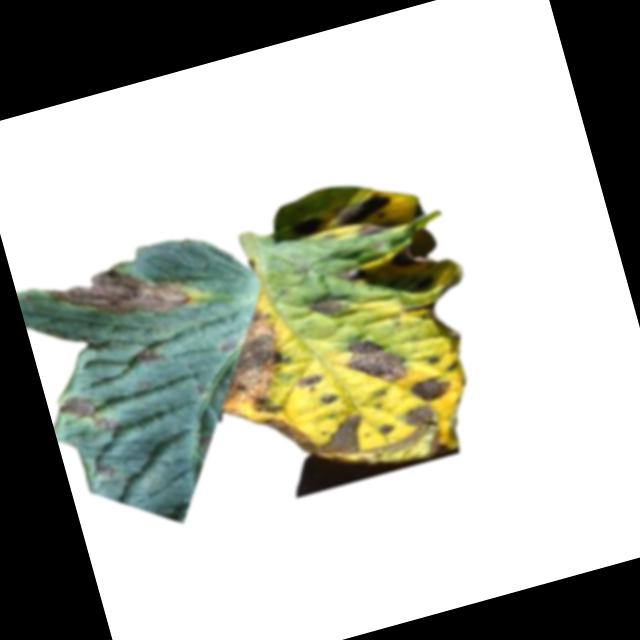Early_blight: (43, 248, 197, 343), (187, 304, 299, 430), (247, 392, 372, 481), (367, 405, 448, 465), (340, 328, 412, 394), (55, 383, 123, 446), (334, 192, 391, 228), (405, 369, 453, 409), (307, 291, 347, 325), (133, 347, 162, 373), (294, 371, 324, 396)
